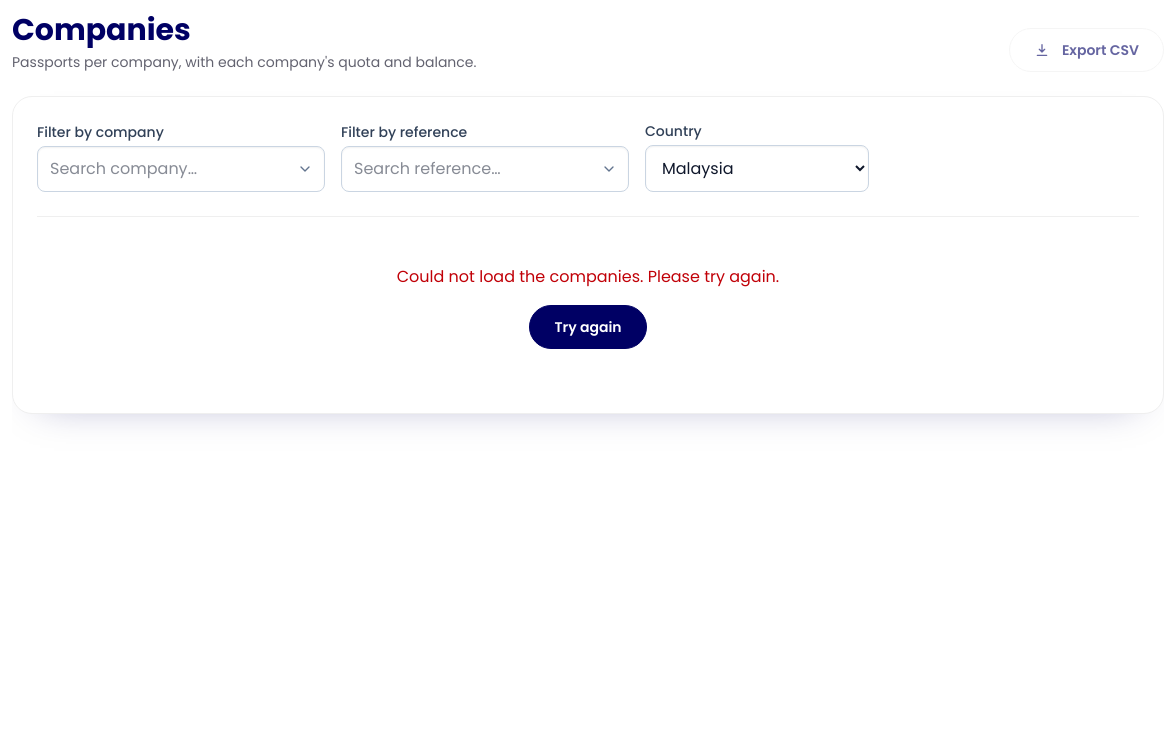
it: CompaniesView › shows an error with a retry button
Check: the message "Could not load the companies. Please try again. Try again" is shown, box [397,265,779,349]
What coordinates should you click on to do the following:
click the button "Try again"
I would click on:
 (588, 327)
Its box is [529,305,647,349].
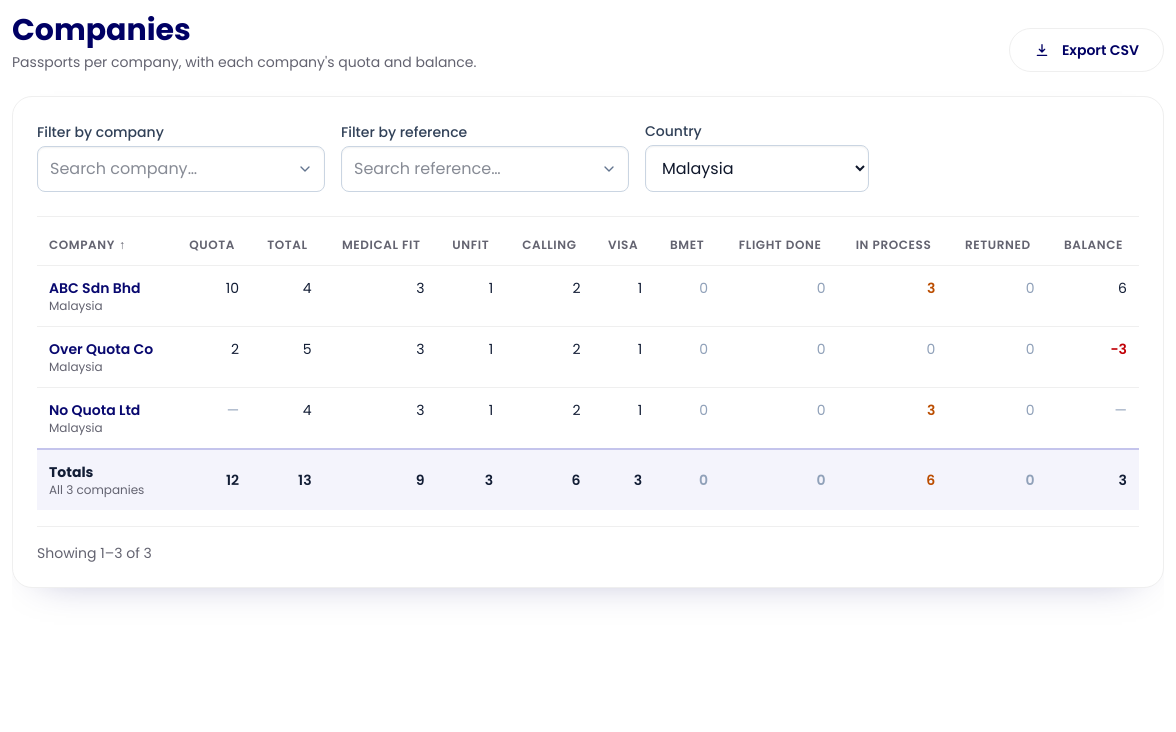
Check: the row "Totals All 3 companies 12 13 9 3 6 3 0 0 6 0 3" is shown, box [37,449,1139,510]
